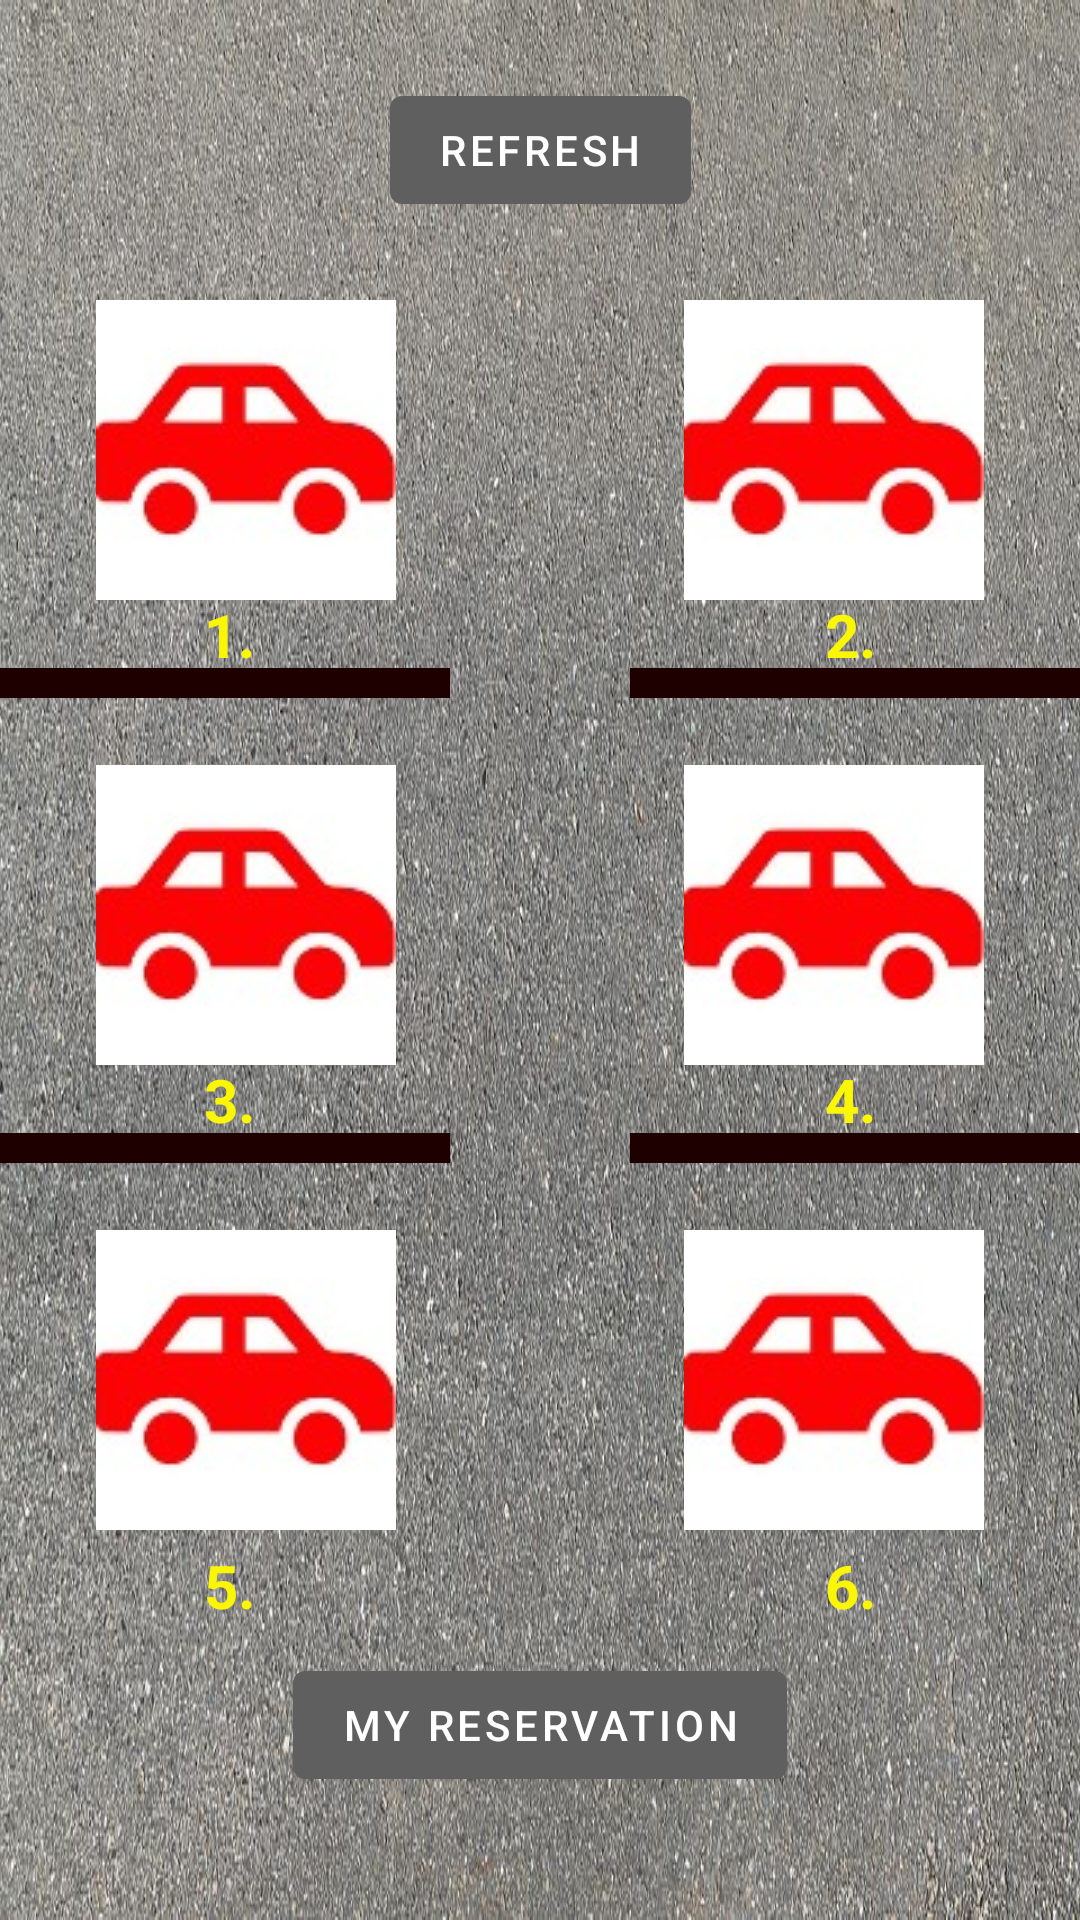

Point at icon controls on the screen. Image size 1080px x 1920px, points as point (x, y).
redcar: point (246, 450), point (834, 450), point (246, 915), point (834, 915), point (246, 1380), point (834, 1380)
